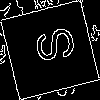S: (25, 24, 77, 67)
